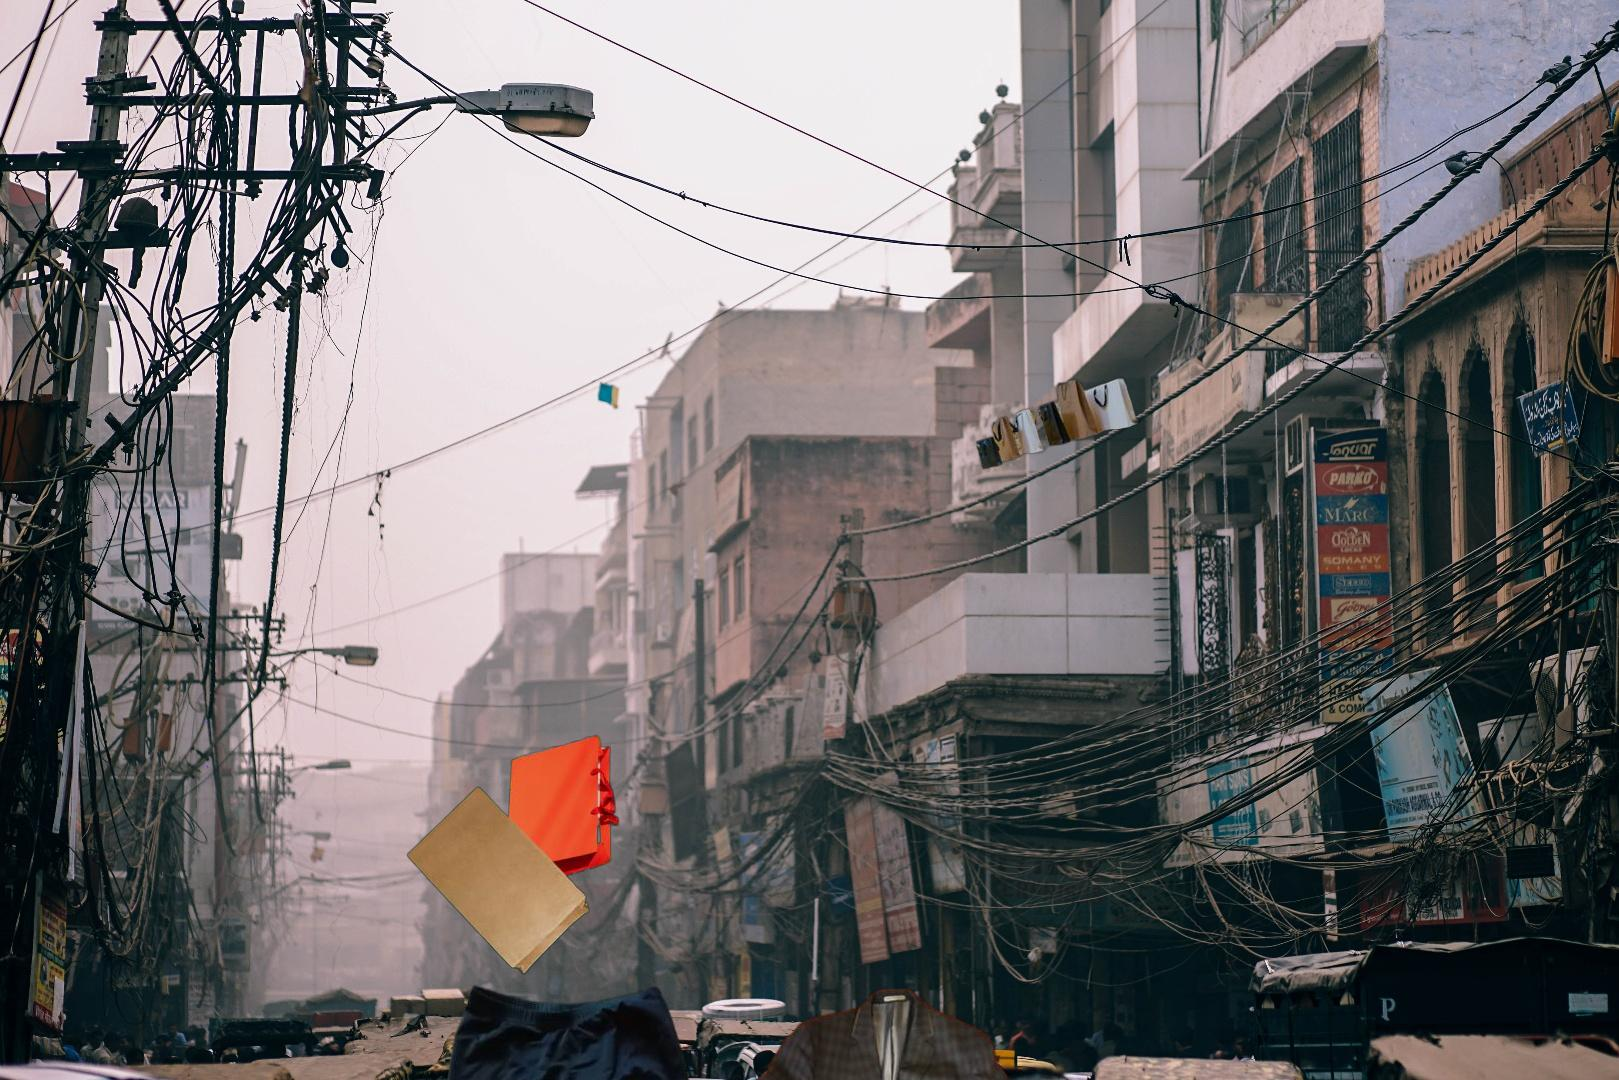clothes: (628, 986, 1131, 1080), (428, 981, 704, 1080)
paper-bag: (365, 689, 622, 976), (973, 375, 1142, 472)
